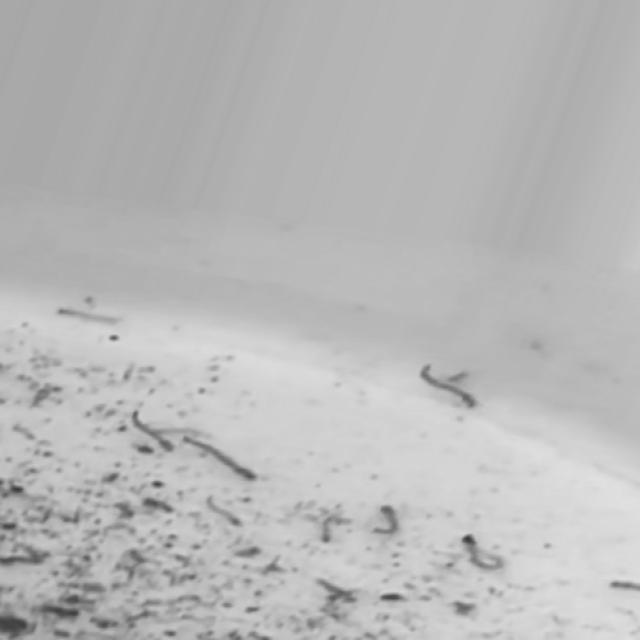larvas: (182, 432, 253, 481), (422, 361, 475, 410), (135, 403, 169, 454), (466, 532, 499, 574), (59, 304, 115, 324), (322, 510, 352, 546), (206, 497, 240, 528), (375, 506, 398, 536)
